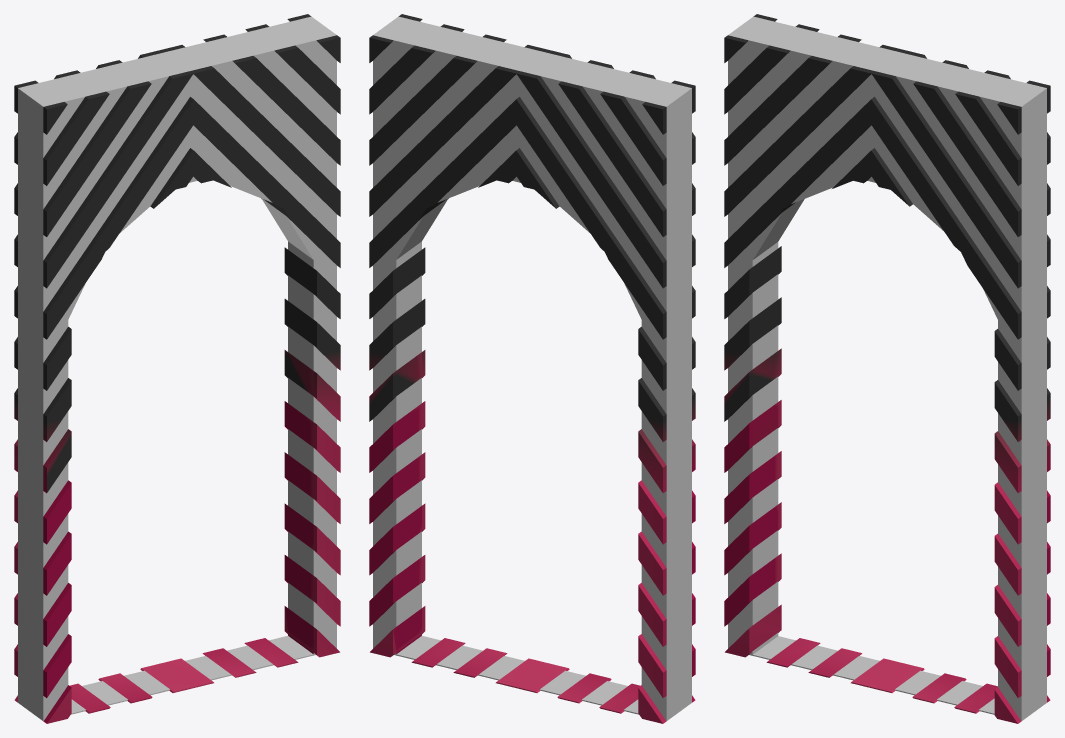
File: ArrowDoorframe.glb
3 renders of one model, left to right at view 1: azimuth 30°, elevation 25°; view 2: azimuth 150°, elevation 25°; view 3: azimuth 330°, elevation 25°, orthographic.
Visible parts, largest first — view 1: wall_arrow_door; view 2: wall_arrow_door; view 3: wall_arrow_door.
Part boxes in pixels (bbox=[...]): wall_arrow_door: bbox=[14, 14, 340, 723]; wall_arrow_door: bbox=[369, 14, 695, 723]; wall_arrow_door: bbox=[724, 14, 1050, 723].
Size of what is drawn, in the model's own units: 2 by 4 by 0.3827.
1 material, 1 textured.
